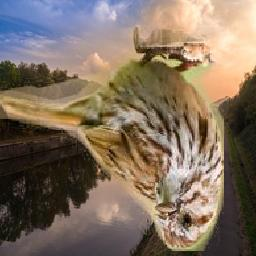Sparrow: (0, 27, 224, 251)
